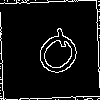Q: (25, 25, 87, 88)
